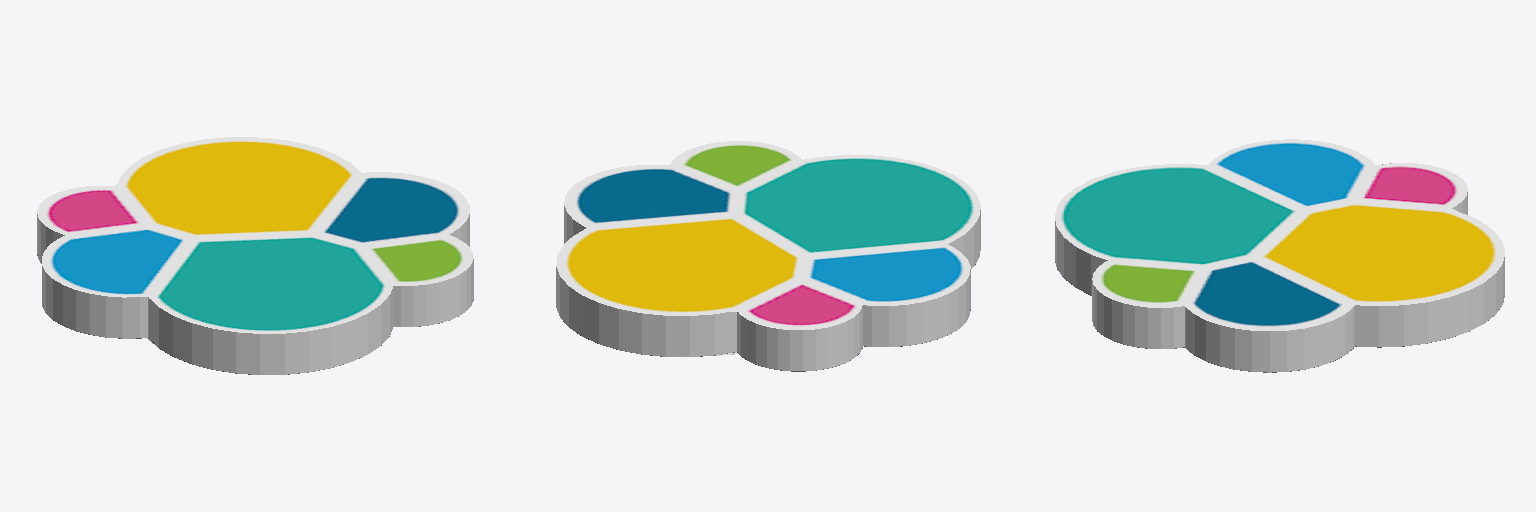
The picture shows the model from 3 angles: view 1: azimuth 30°, elevation 25°; view 2: azimuth 150°, elevation 25°; view 3: azimuth 270°, elevation 25°; orthographic projection.
Parts seen in each view (by area): view 1: Circle.005_Circle.007; view 2: Circle.005_Circle.007; view 3: Circle.005_Circle.007.
Boxes of the visible parts, box(x1,y1,x2,y2) form: Circle.005_Circle.007: box(37, 137, 473, 374); Circle.005_Circle.007: box(556, 141, 980, 371); Circle.005_Circle.007: box(1055, 139, 1504, 372).
Size of the model in its own units: 9.98 by 1 by 9.89.
Materials: 1 (1 with a texture image).